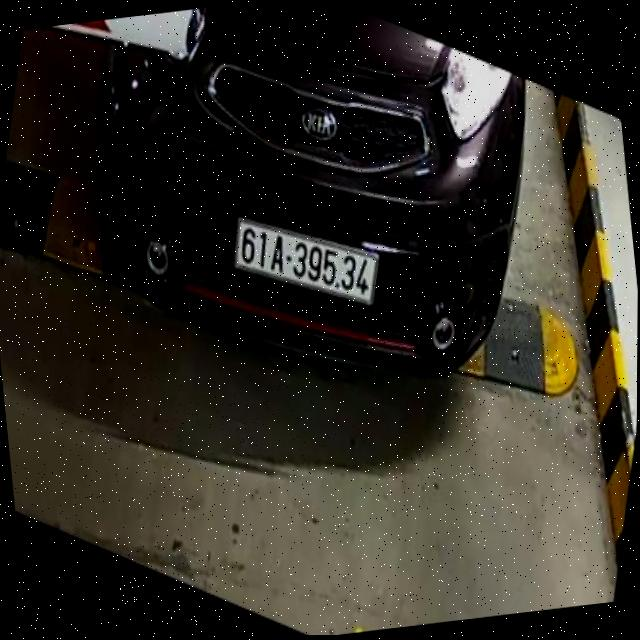car: (71, 0, 561, 424)
plate: (222, 192, 388, 325)
